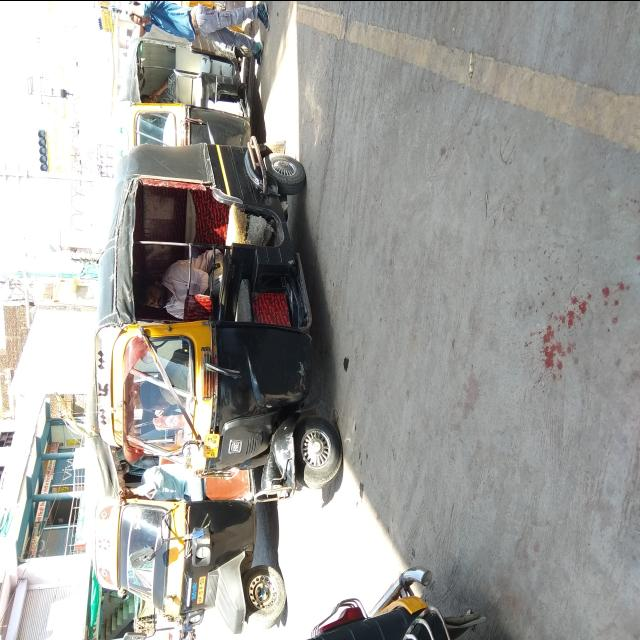Autorickshaw: (86, 120, 353, 506), (80, 416, 286, 634), (118, 30, 272, 156)
